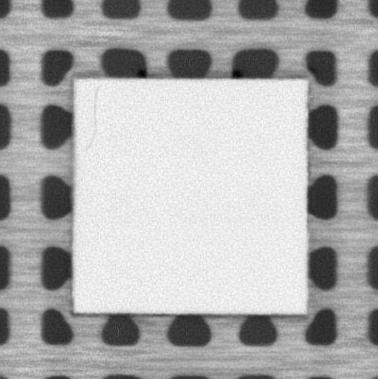DIE_CRACK: (84, 84, 103, 152)
